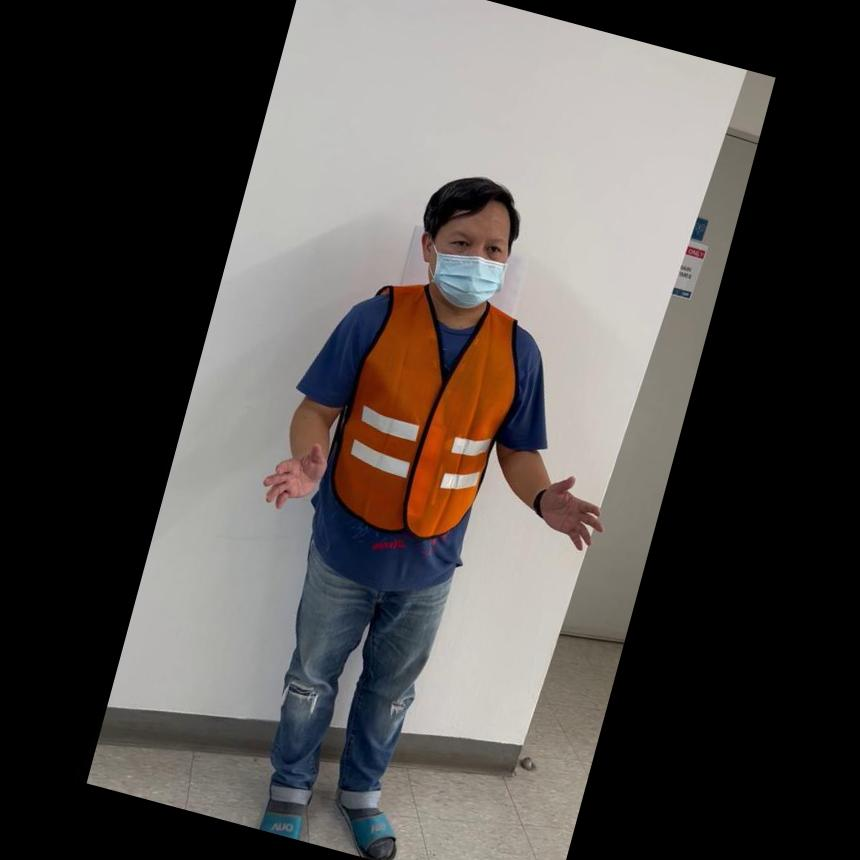No-gloves: (525, 459, 616, 556), (253, 427, 334, 520)
